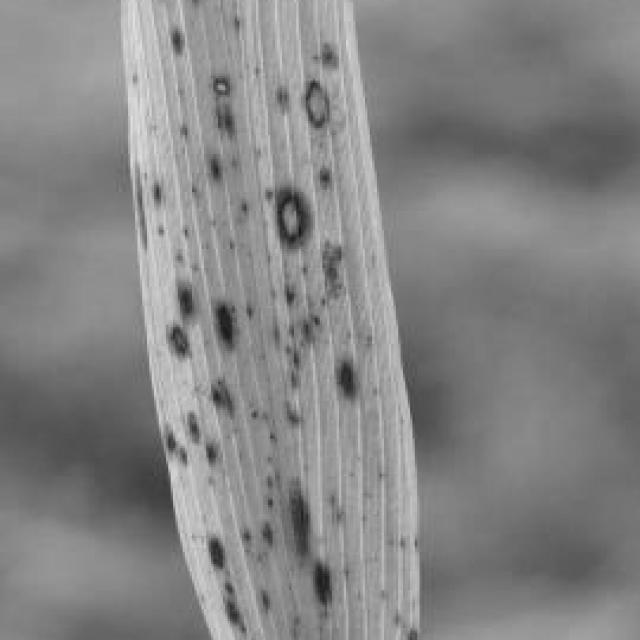Brown_Spot: (282, 467, 320, 564), (128, 145, 159, 263), (272, 182, 322, 254), (327, 344, 375, 415), (301, 69, 339, 140), (317, 234, 353, 306), (202, 368, 246, 424), (308, 550, 344, 618), (173, 270, 209, 327), (213, 292, 244, 358), (218, 590, 254, 635), (163, 14, 194, 64), (166, 315, 197, 365), (204, 526, 235, 576), (156, 415, 188, 457), (204, 144, 228, 190), (184, 406, 208, 448), (202, 434, 230, 469), (253, 580, 280, 616), (211, 66, 237, 100), (149, 173, 171, 213), (258, 516, 282, 552), (284, 361, 306, 398), (274, 78, 296, 114), (175, 438, 197, 474), (284, 396, 308, 429), (230, 2, 252, 36), (322, 38, 344, 69), (216, 571, 244, 595), (270, 313, 286, 353), (401, 618, 430, 640), (280, 621, 313, 640), (318, 162, 340, 190), (328, 504, 356, 526), (289, 339, 311, 367), (301, 316, 320, 348), (176, 116, 200, 140), (393, 409, 418, 432), (282, 282, 304, 306), (263, 467, 285, 491), (260, 490, 284, 512), (410, 531, 429, 557), (178, 220, 200, 242), (170, 244, 192, 266), (374, 580, 396, 602), (144, 112, 164, 136), (237, 524, 261, 543), (342, 322, 361, 346), (318, 286, 337, 310), (260, 450, 282, 470), (239, 540, 261, 560), (324, 488, 344, 510), (128, 68, 147, 90), (249, 400, 268, 422), (251, 140, 270, 162), (368, 379, 387, 401), (204, 206, 223, 228), (252, 57, 268, 83), (244, 296, 260, 322), (264, 178, 280, 204), (266, 424, 284, 446), (290, 313, 304, 341), (240, 192, 256, 216), (392, 604, 408, 628), (235, 443, 251, 467), (188, 522, 204, 546), (354, 580, 369, 604), (176, 80, 192, 102), (188, 178, 204, 200), (396, 530, 412, 552), (356, 509, 374, 528), (230, 149, 244, 173), (154, 220, 170, 240), (299, 258, 315, 278), (313, 306, 327, 328), (268, 280, 282, 302), (204, 469, 220, 488), (363, 329, 379, 348), (194, 588, 210, 607), (228, 234, 242, 253), (340, 564, 356, 580), (284, 576, 300, 592), (292, 610, 308, 626), (200, 235, 216, 251), (247, 628, 266, 640), (374, 465, 388, 481), (185, 0, 209, 9), (346, 467, 360, 481)
